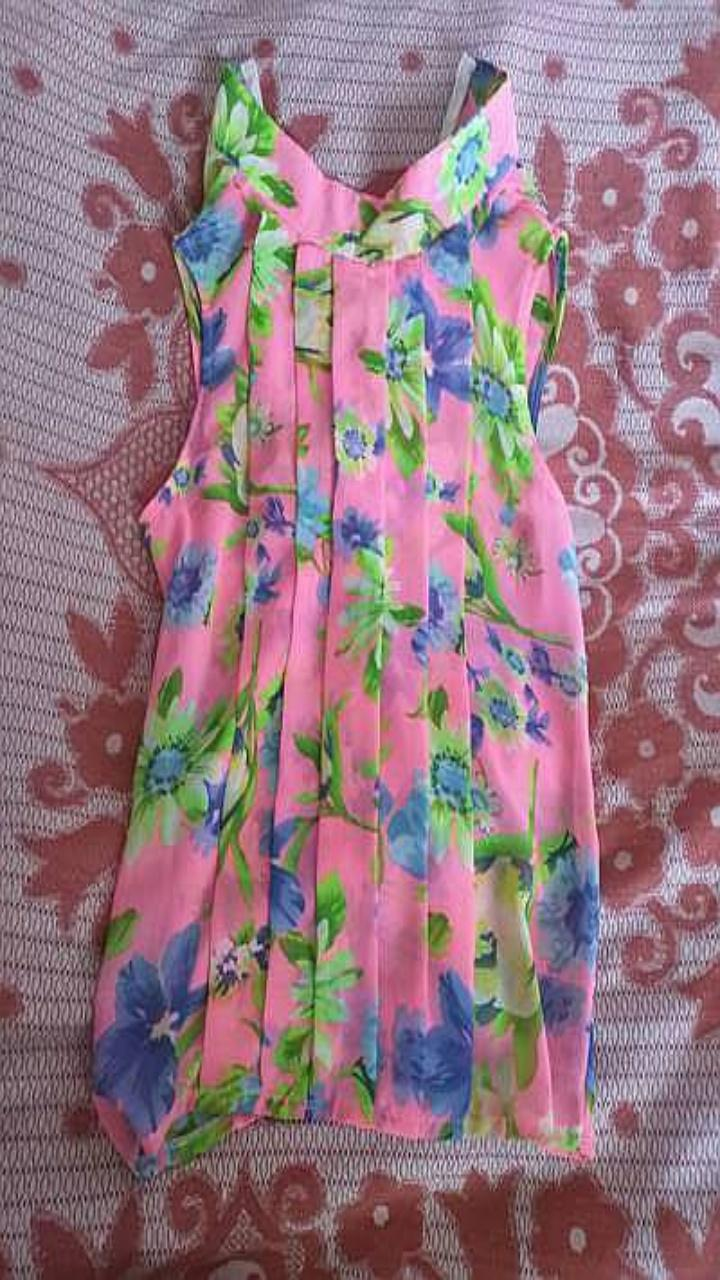Dresses: (94, 56, 598, 1172)
